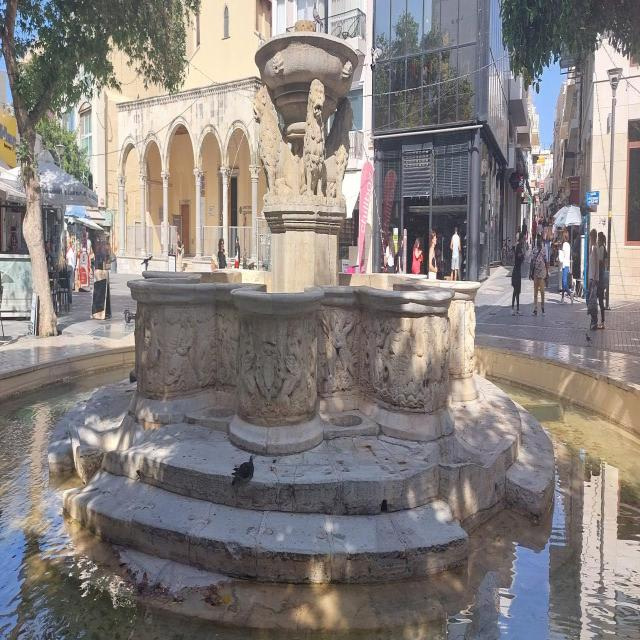Liontaria: (129, 29, 485, 443)
